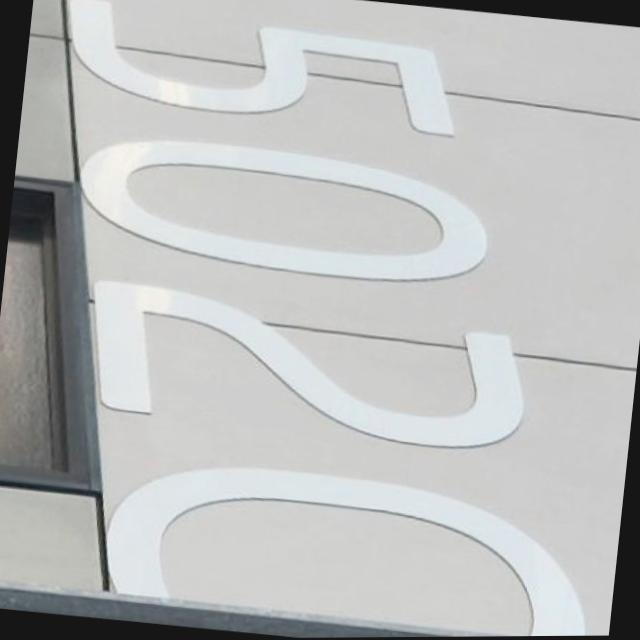character: (93, 441, 607, 639), (72, 269, 543, 474), (61, 121, 500, 302), (53, 0, 472, 142)
